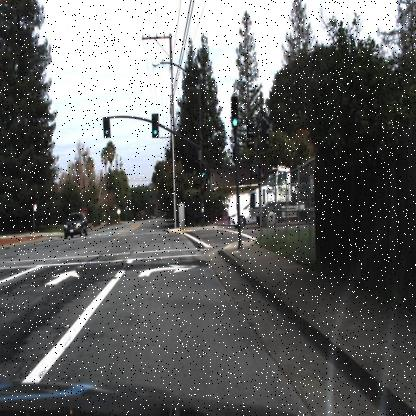car: (63, 210, 91, 238), (228, 202, 252, 225)
trafficLight-Green: (230, 98, 239, 134), (152, 112, 160, 137), (104, 113, 112, 136), (199, 160, 207, 183)
truck: (250, 165, 314, 223)
